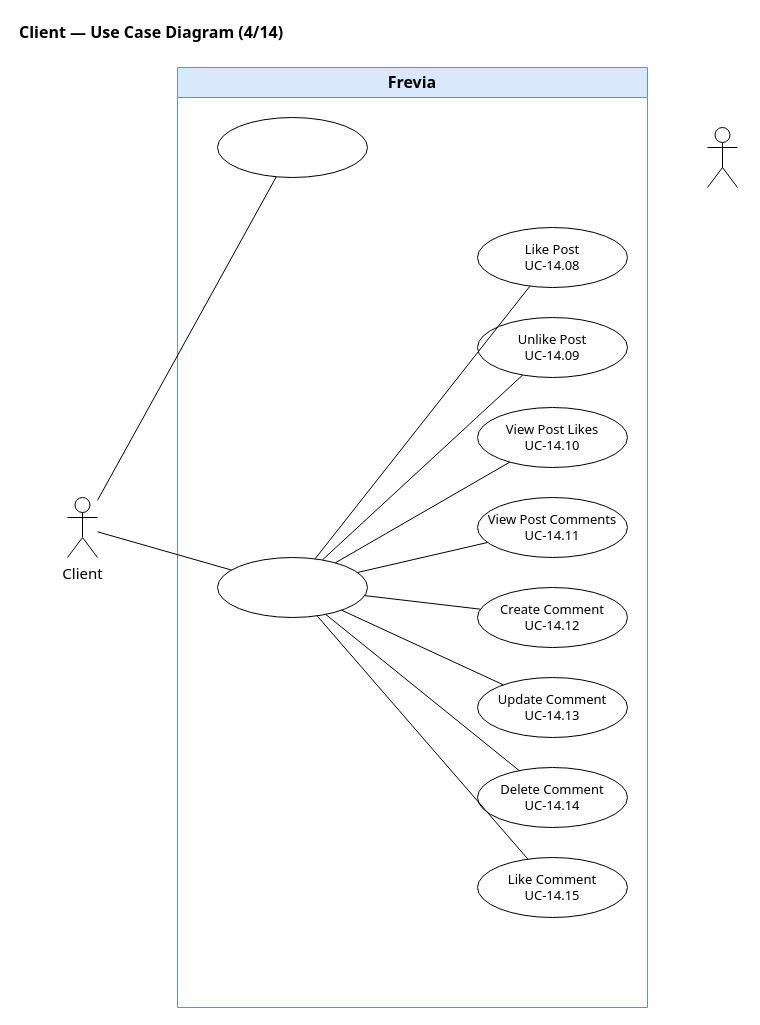
This 760x1025 diagram has some shape labels left out. Here are the shapes that lost their labels. From the top down, the centre of each, then its label:
At [292,147]: "Delete Post UC-14.07".
At [722,157]: "Stripe".
At [292,587]: "Forum Management UC-14".
